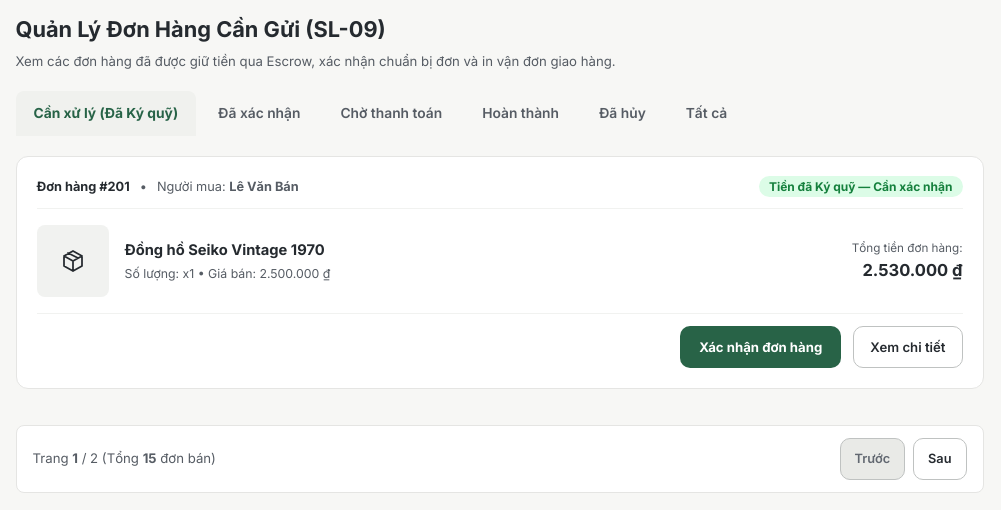
Test case: SellerOrdersView Component › renders seller orders and supports pagination navigation
This screenshot has width=1001, height=510.
Check: the heading "Đồng hồ Seiko Vintage 1970" is shown, box x1=124 y1=241 x2=325 y2=259
Check: the text "Trang 1 / 2 (Tổng 15 đơn bán)" is shown, box x1=32 y1=449 x2=216 y2=469
Click the button "Sau": (940, 459) x1=913 y1=438 x2=966 y2=480
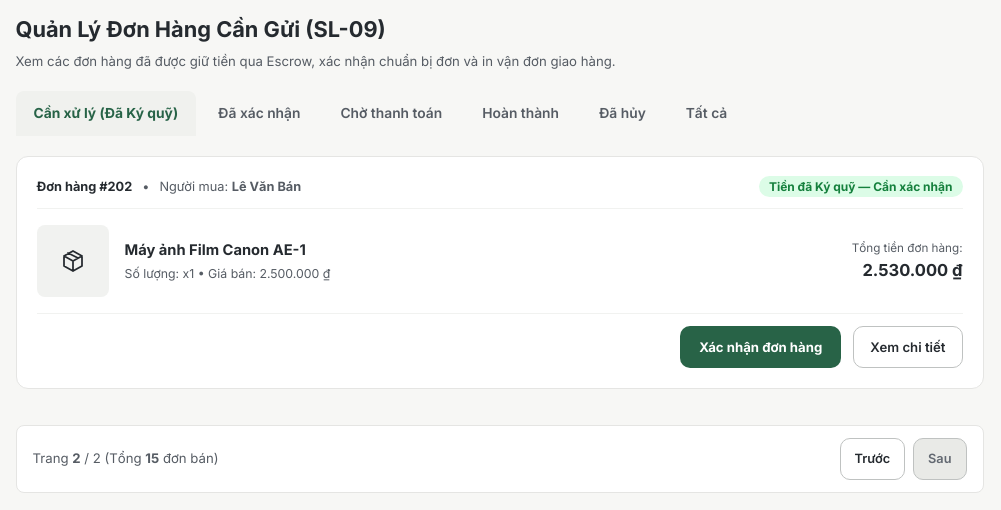
Check: the heading "Máy ảnh Film Canon AE-1" is shown, box x1=124 y1=241 x2=306 y2=259
